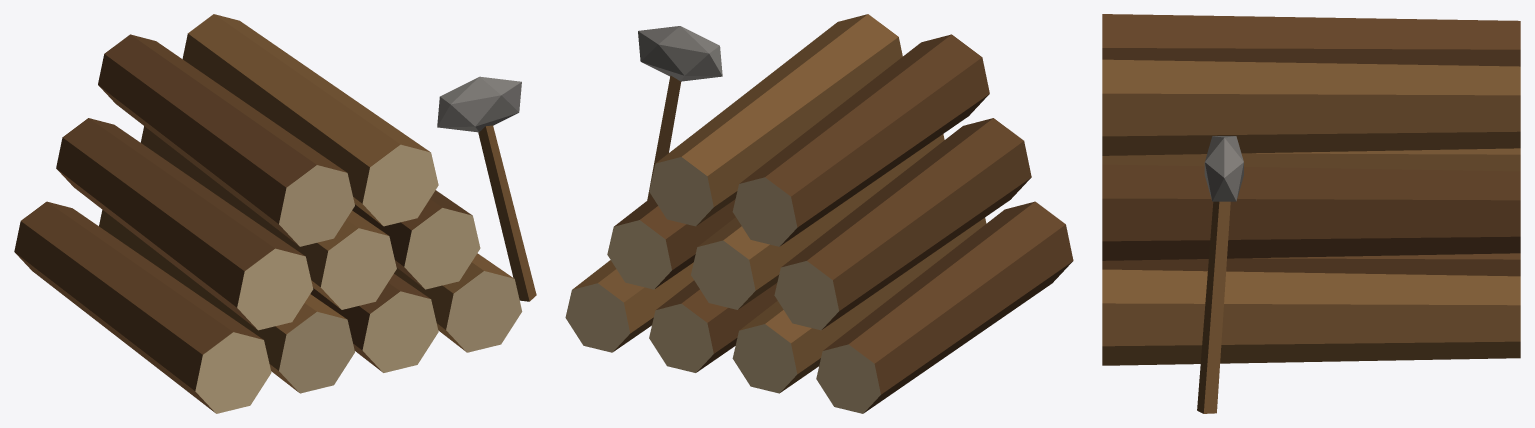
The model's file is woodpile.glb.
The picture shows the model from 3 angles, left to right: view 1: azimuth 30°, elevation 25°; view 2: azimuth 150°, elevation 25°; view 3: azimuth 270°, elevation 25°; orthographic projection. The views are drawn at different scales.
Visible parts, largest first — view 1: woodpile; view 2: woodpile; view 3: woodpile.
Boxes of the visible parts, x1,y1,x2,y2 form: woodpile: [14, 14, 536, 413]; woodpile: [565, 14, 1073, 413]; woodpile: [1102, 14, 1520, 413].
Size of the model in its own units: 2.87 by 1.64 by 2.4.
